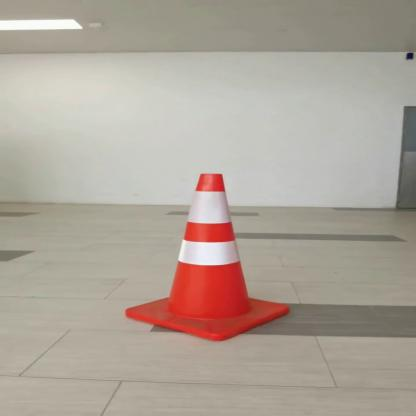cone: (128, 163, 294, 345)
